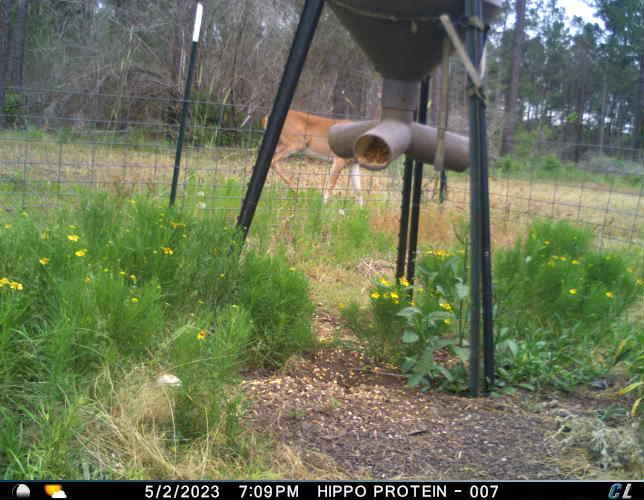Deer: (253, 108, 369, 209)
